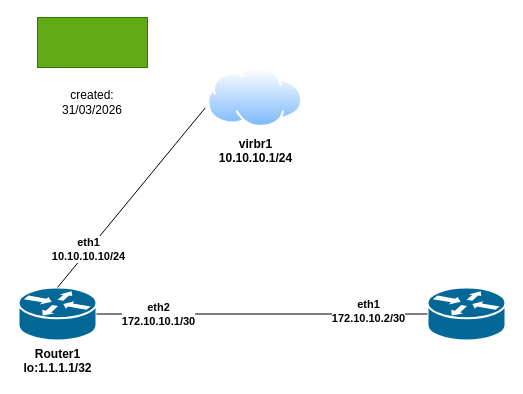
This 523x394 diagram has some shape labels left out. Here are the shapes that lost their labels. From the top down, the box of each, then its label:
(36, 16, 148, 68): GRE
(426, 286, 506, 341): Router2 lo:2.2.2.2/32
